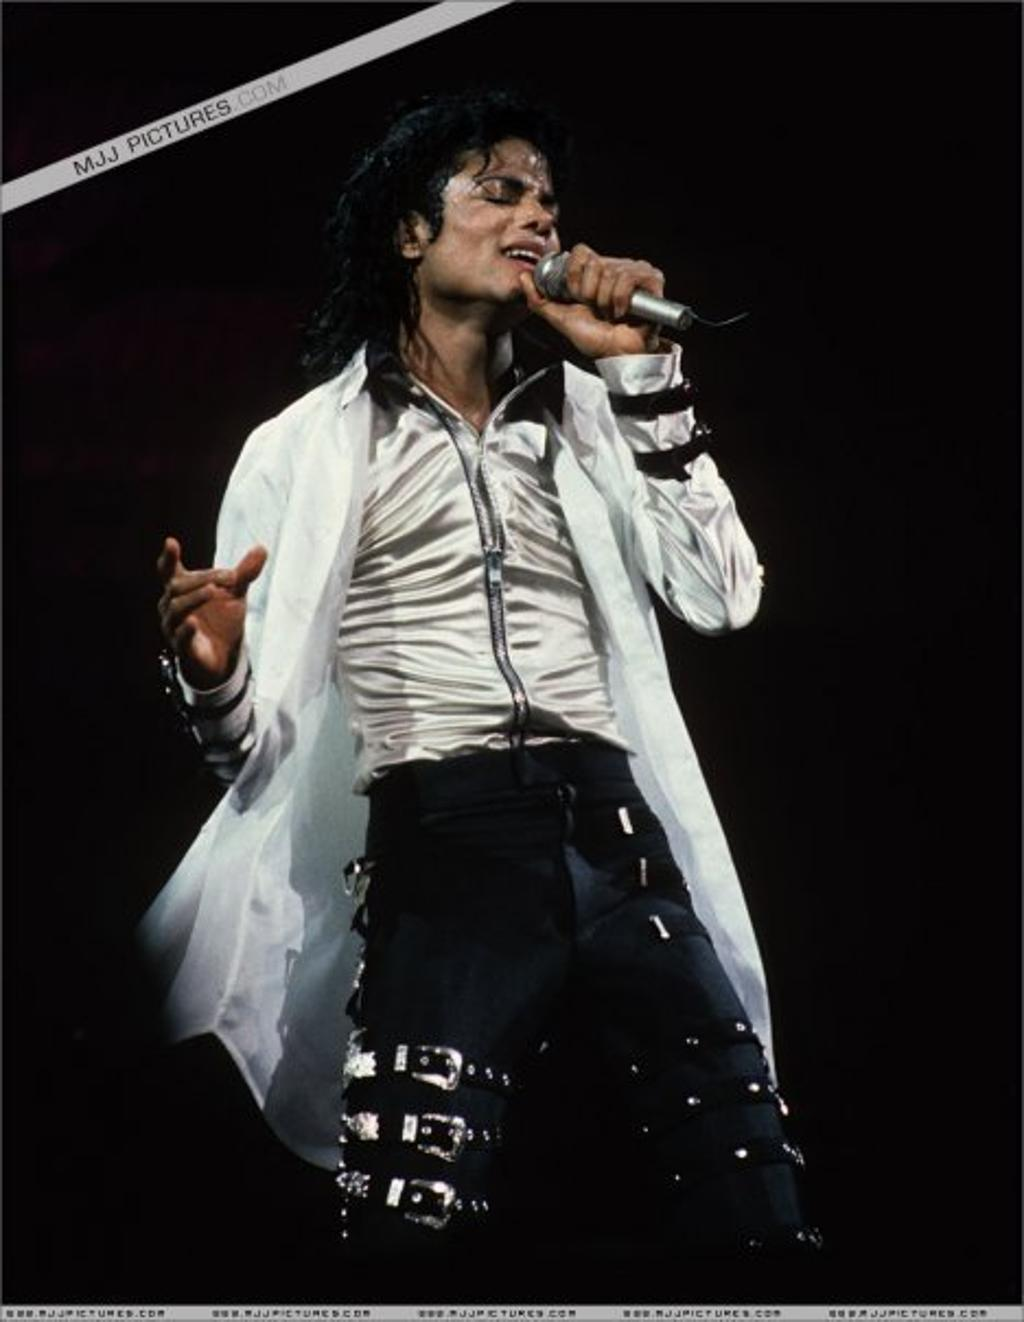face: (419, 143, 569, 308)
